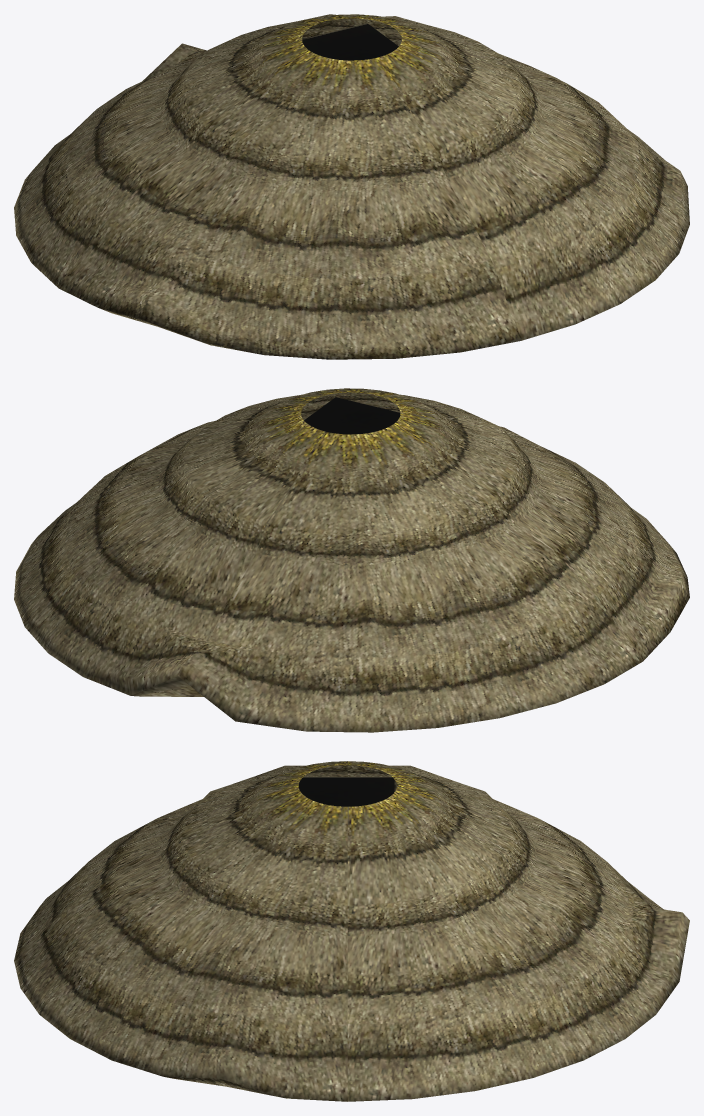
Rendered from celt_civic_centre_roof.dae.
3 renders of one model, top to bottom at view 1: azimuth 30°, elevation 25°; view 2: azimuth 150°, elevation 25°; view 3: azimuth 270°, elevation 25°, orthographic.
Visible parts, largest first — view 1: Plane01; view 2: Plane01; view 3: Plane01.
Boxes of the visible parts, bbox=[...] form: Plane01: bbox=[14, 14, 689, 359]; Plane01: bbox=[14, 388, 689, 732]; Plane01: bbox=[14, 761, 689, 1101].
Size of the model in its own units: 20.83 by 21.09 by 6.27.
